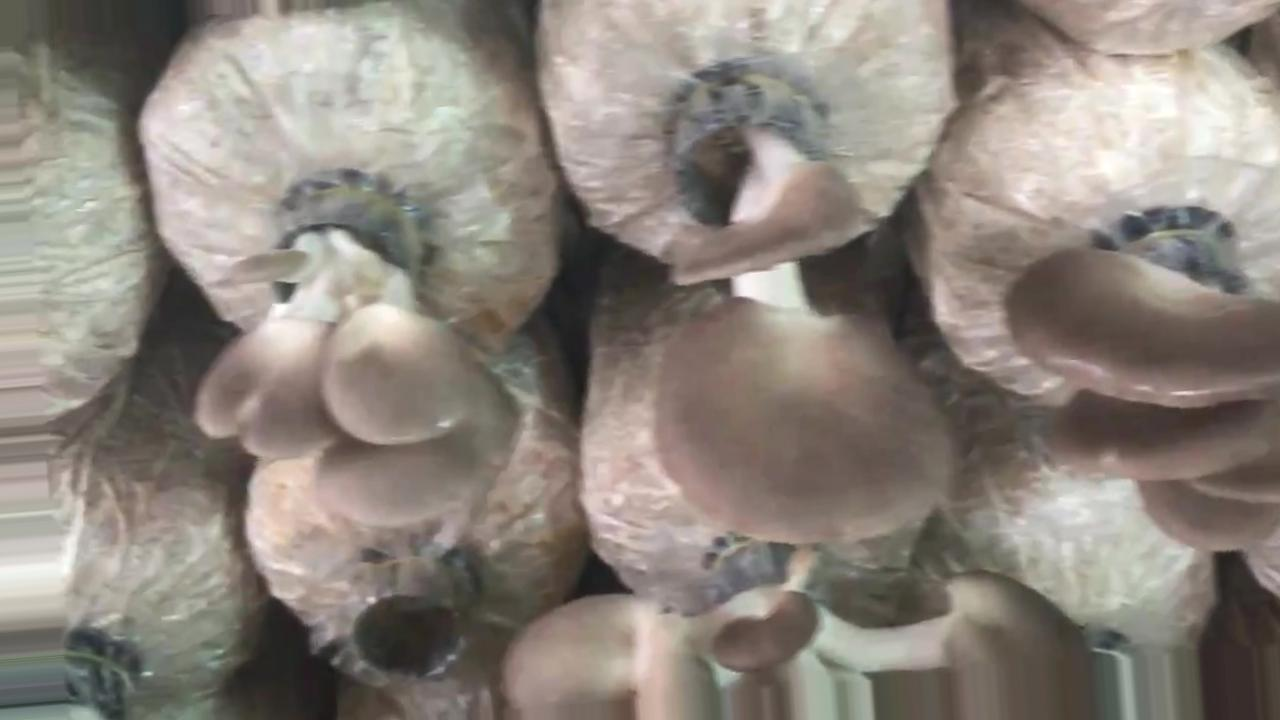nam: (649, 66, 959, 546), (185, 167, 524, 532), (505, 546, 1102, 720), (998, 216, 1280, 552)
